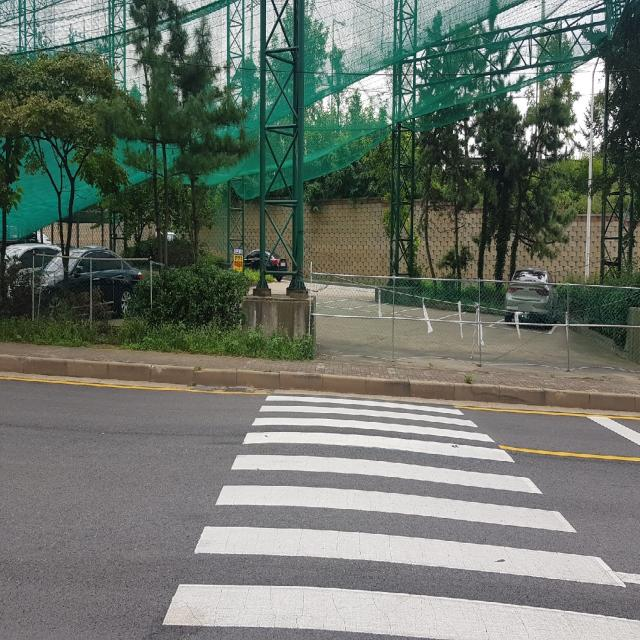횡단보도: (160, 390, 640, 640)
